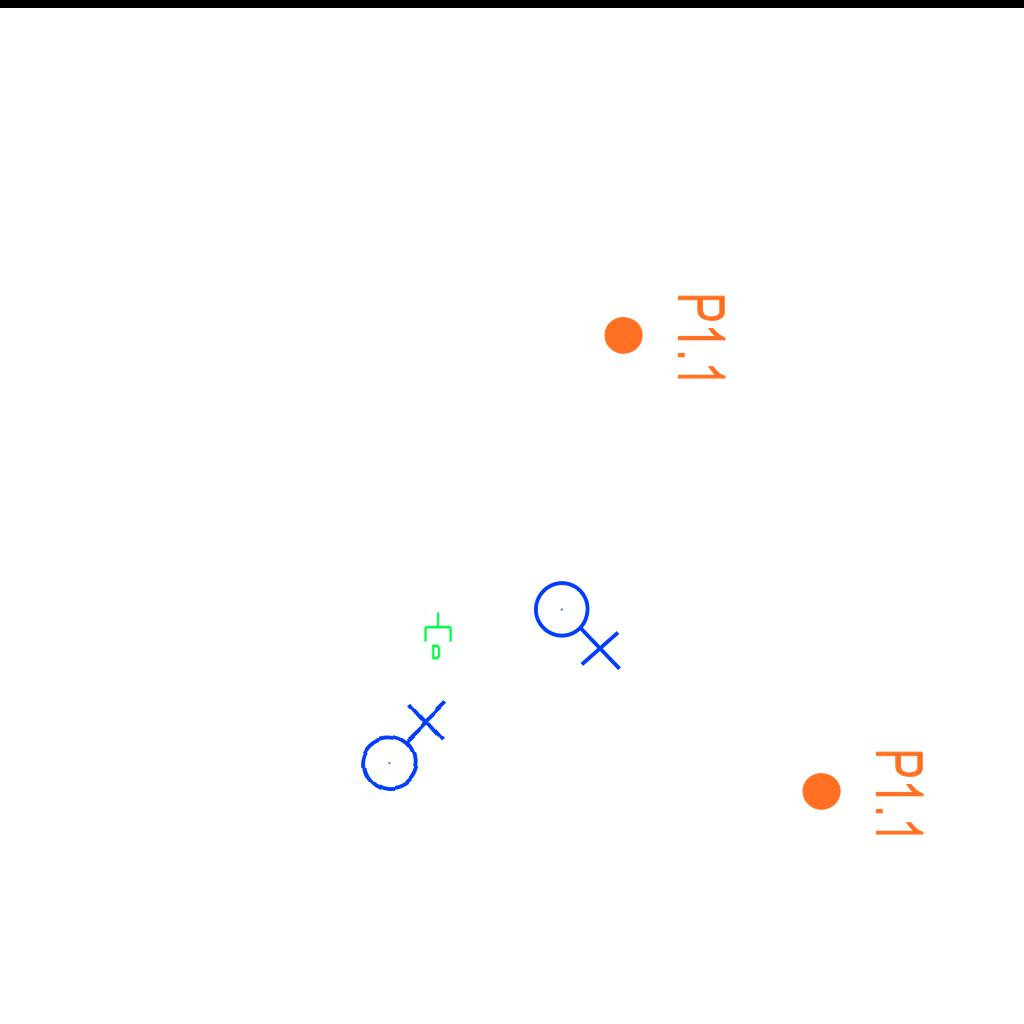Datenanschluss_einfach: (422, 611, 456, 661)
Downlight_LED_Einbauleuchten_Flur_2: (799, 748, 927, 841), (601, 292, 729, 385)
Elektroanschluss_allgemein_230V_Geraeteanschlussdose_230V: (347, 694, 454, 796), (532, 572, 626, 671)
